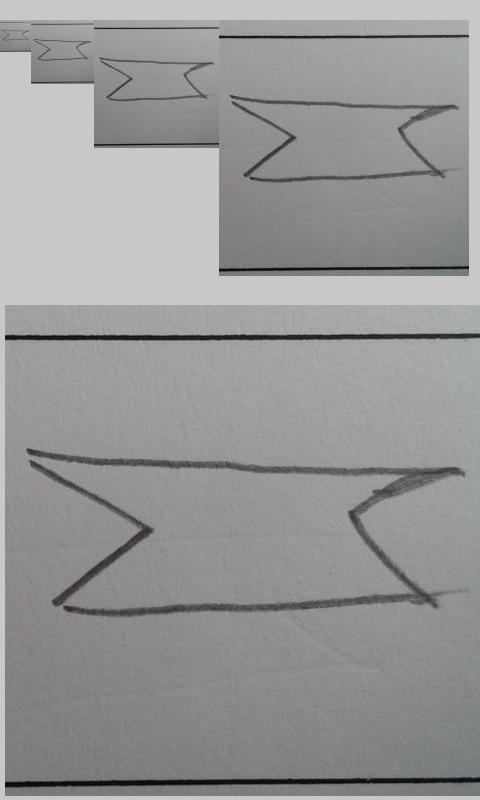edit_text: (28, 451, 461, 618), (229, 94, 447, 184), (99, 57, 209, 102), (34, 39, 89, 61), (1, 29, 28, 41)
